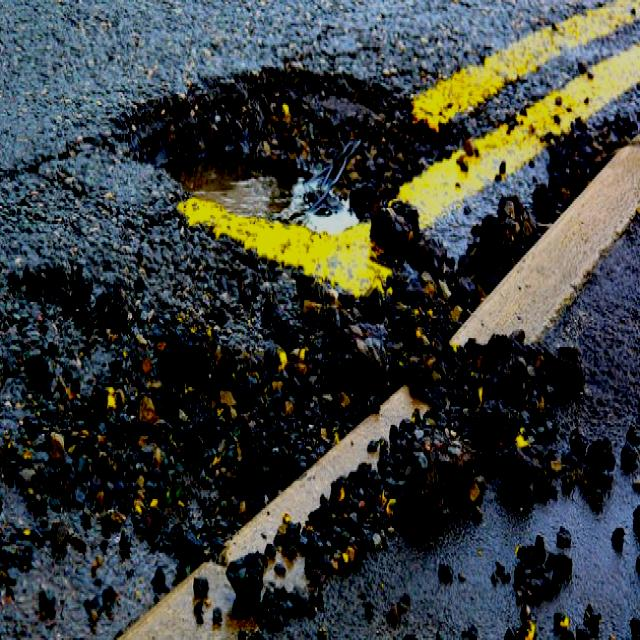Pothole: (69, 51, 479, 439)
